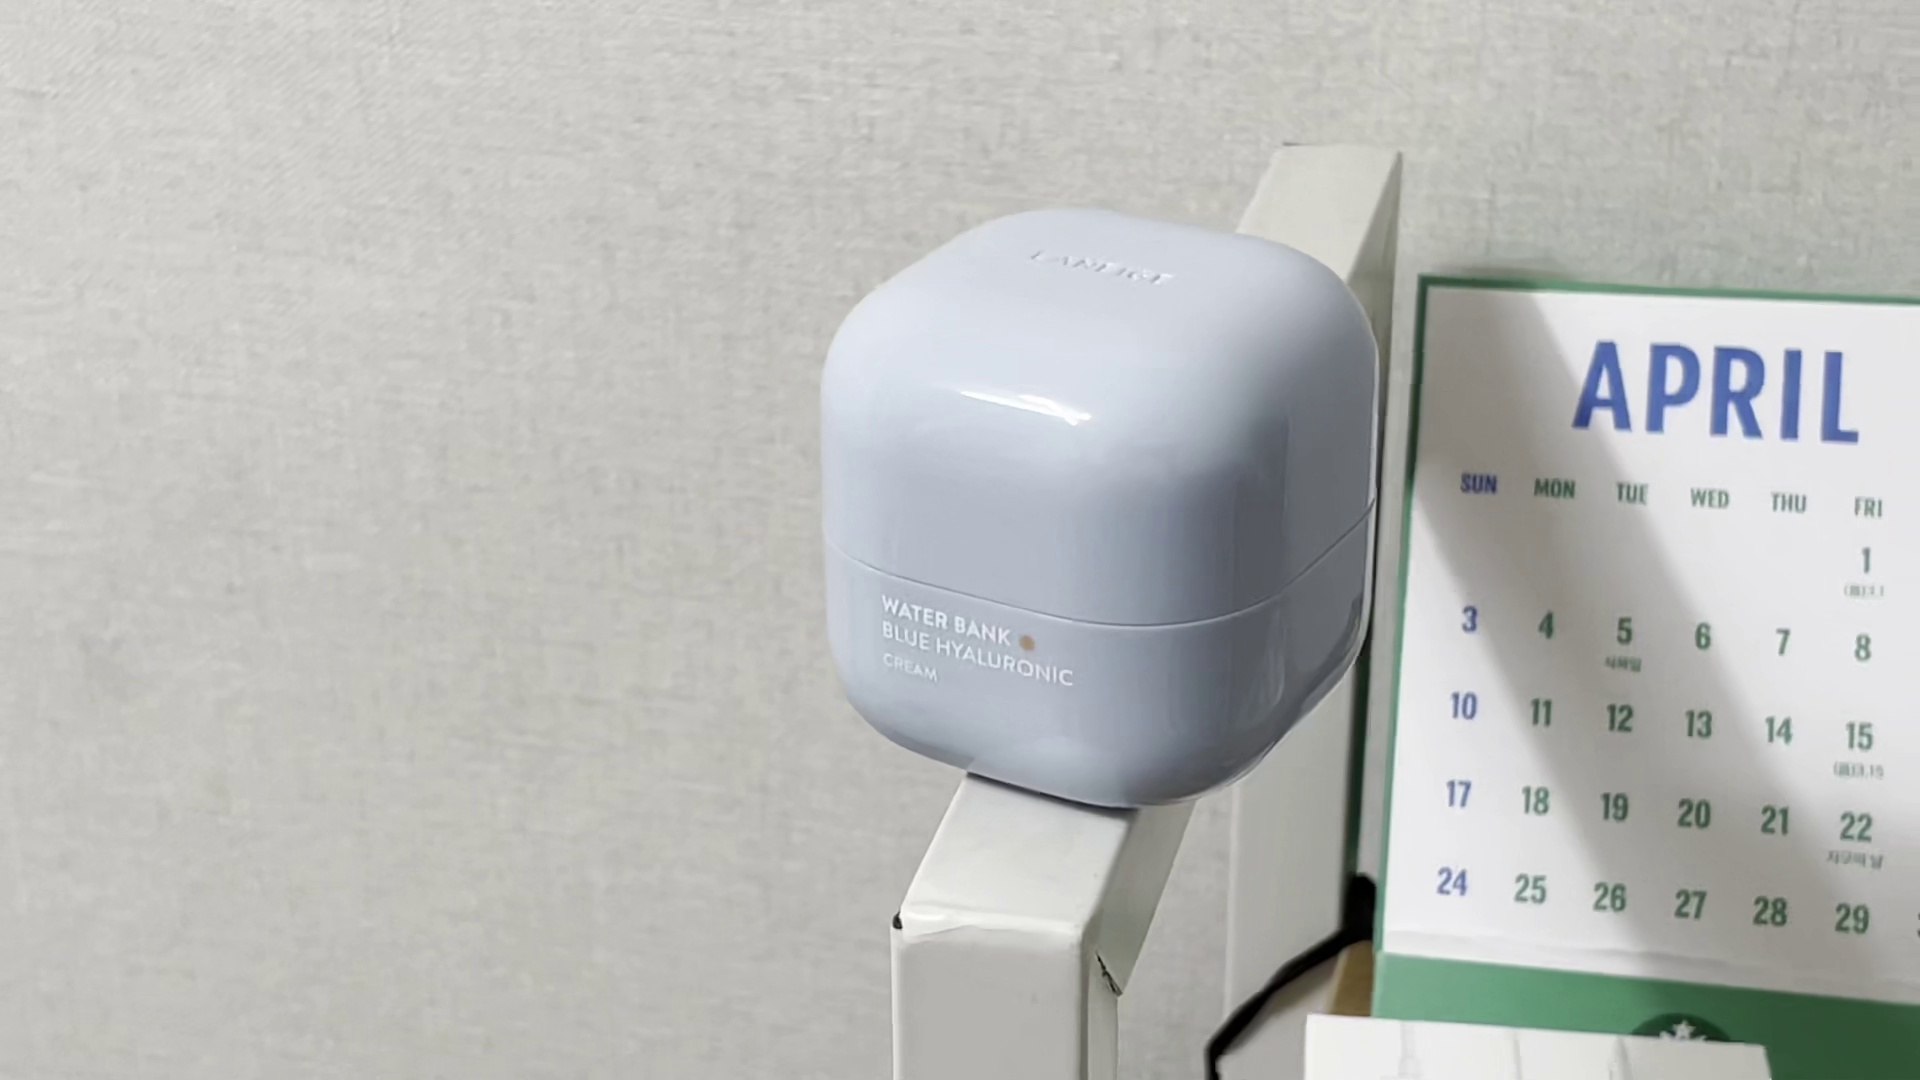cream: (812, 189, 1379, 819)
